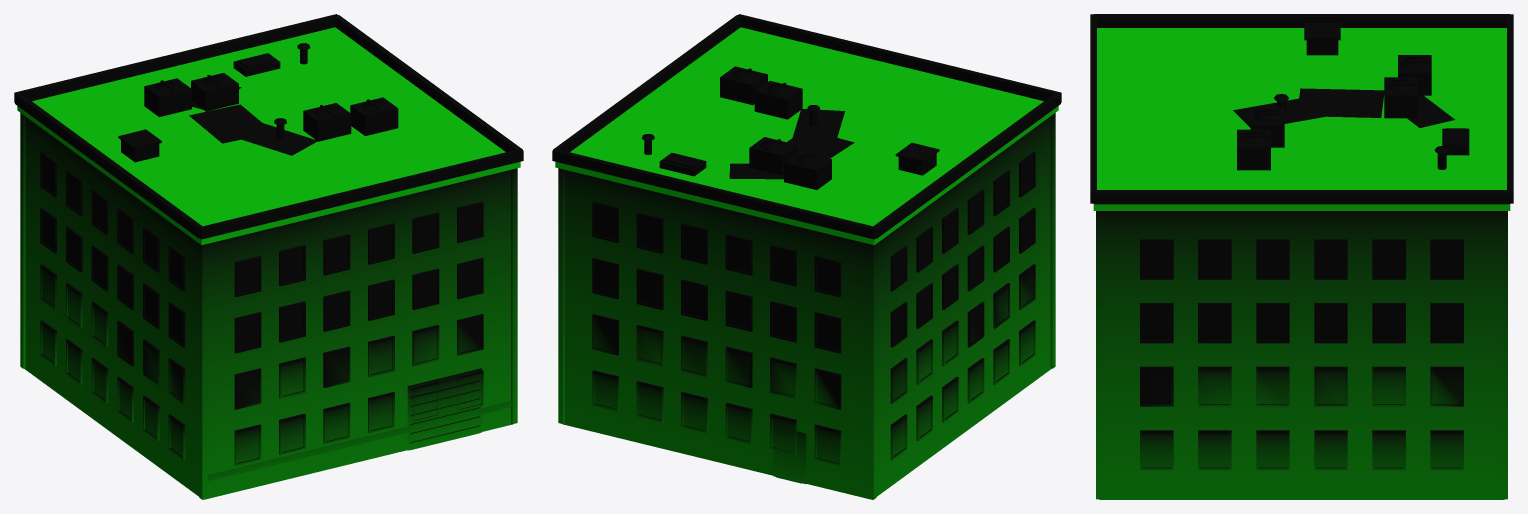
The model's file is city4storyb.glb.
The picture shows the model from 3 angles, left to right: view 1: azimuth 30°, elevation 25°; view 2: azimuth 150°, elevation 25°; view 3: azimuth 270°, elevation 25°; orthographic projection. The views are drawn at different scales.
Parts seen in each view (by area): view 1: lod0; view 2: lod0; view 3: lod0.
Part boxes in pixels (x1,y1,x2,y2): lod0: (14,14,523,499); lod0: (552,14,1061,499); lod0: (1090,14,1513,499).
Size of what is drawn, in the model's own units: 18.7 by 15.84 by 18.7.
